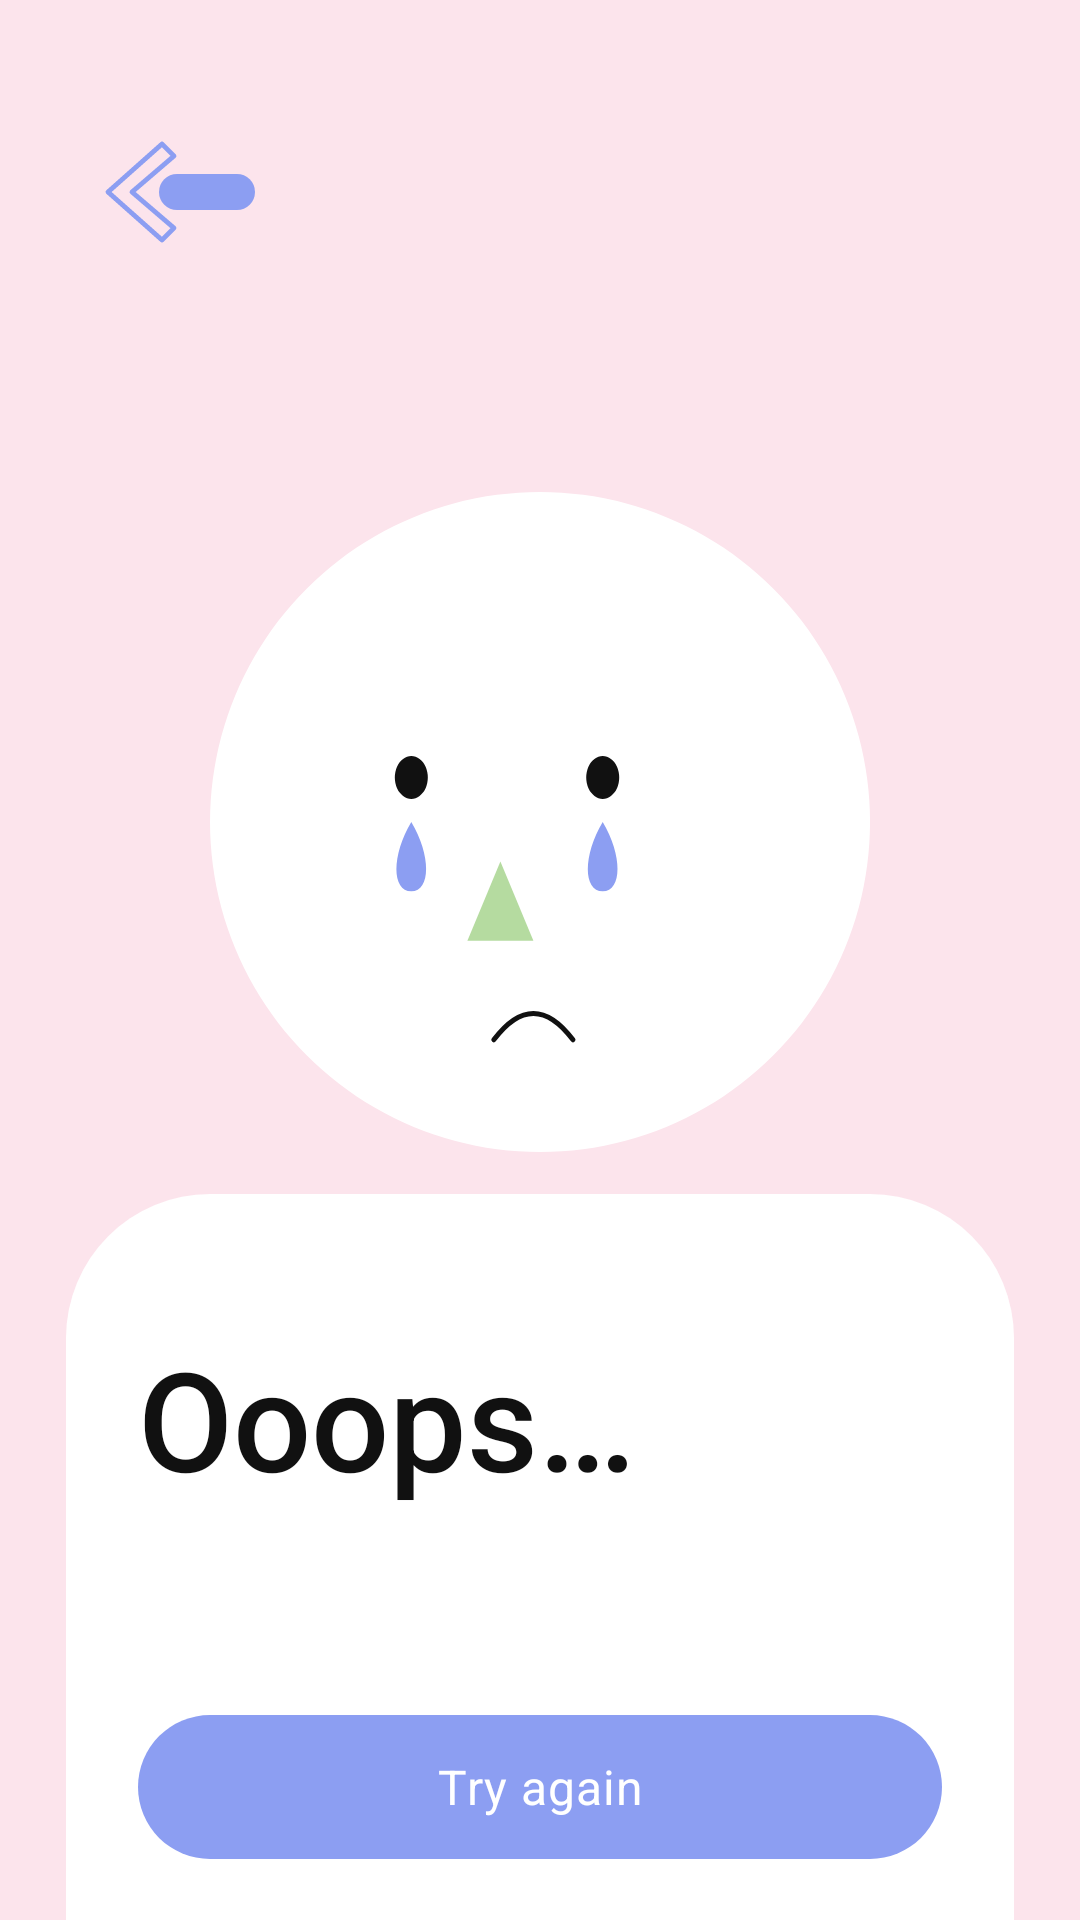

Named icons in this screenshot (1080*1920) and their centers, point (x, y):
Back: point (180, 192)
